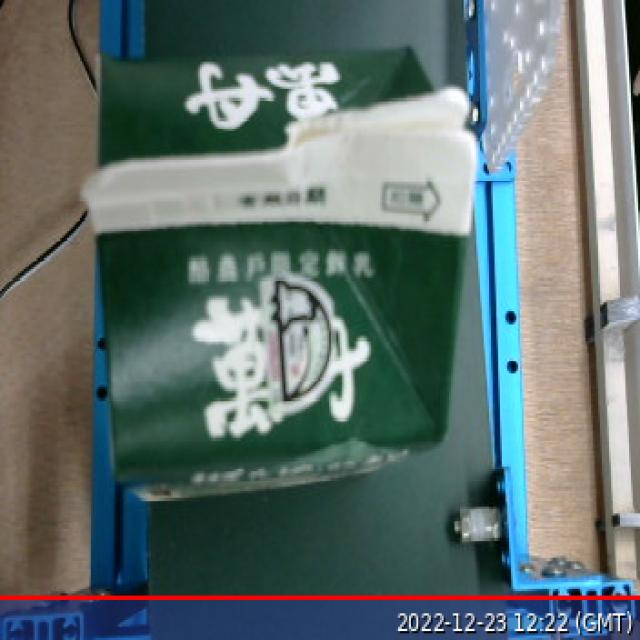non_white_jug: (64, 37, 483, 486)
